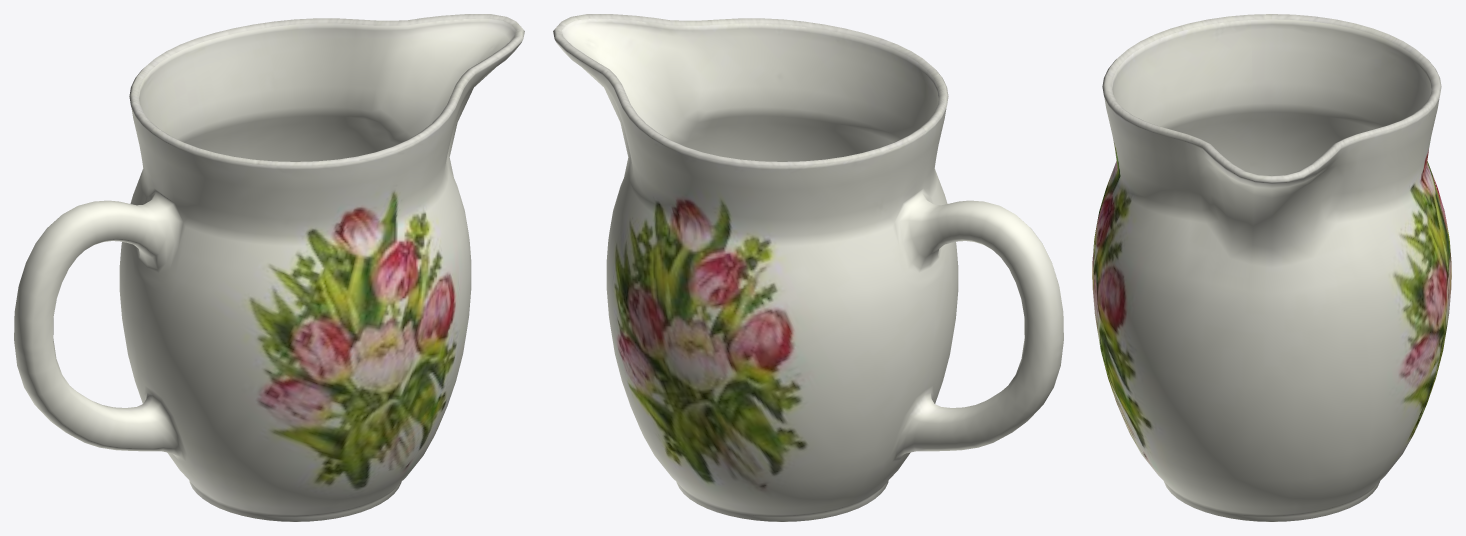
Rendered from jug_01.glb.
3 renders of one model, left to right at view 1: azimuth 30°, elevation 25°; view 2: azimuth 150°, elevation 25°; view 3: azimuth 270°, elevation 25°, orthographic. The views are drawn at different scales.
Visible parts, largest first — view 1: jug_01; view 2: jug_01; view 3: jug_01.
Boxes of the visible parts, x1,y1,x2,y2 form: jug_01: [14, 14, 524, 521]; jug_01: [553, 14, 1063, 521]; jug_01: [1092, 14, 1451, 521].
Size of the model in its own units: 0.2753 by 0.2113 by 0.1675.
1 material, 1 textured.
